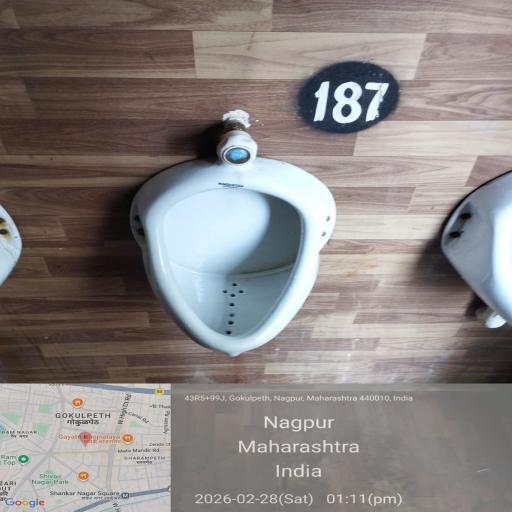clean_floor: (40, 367, 486, 512), (0, 6, 491, 133)
clean_urinal: (129, 118, 370, 366)
